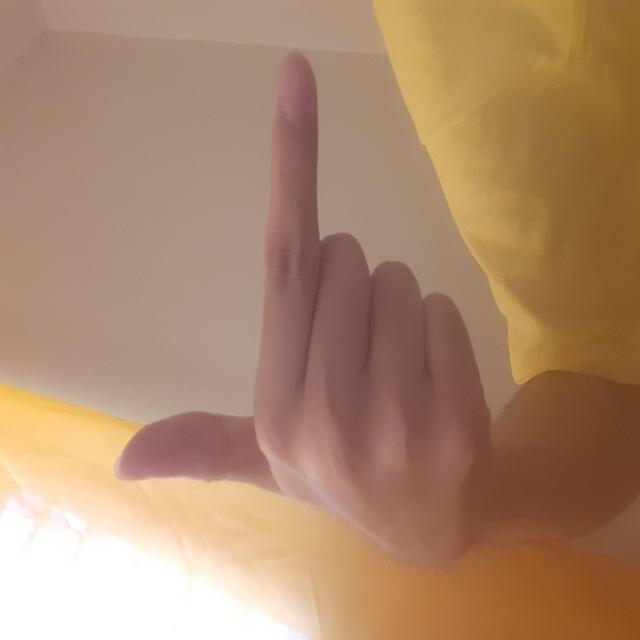G: (105, 110, 591, 490)
